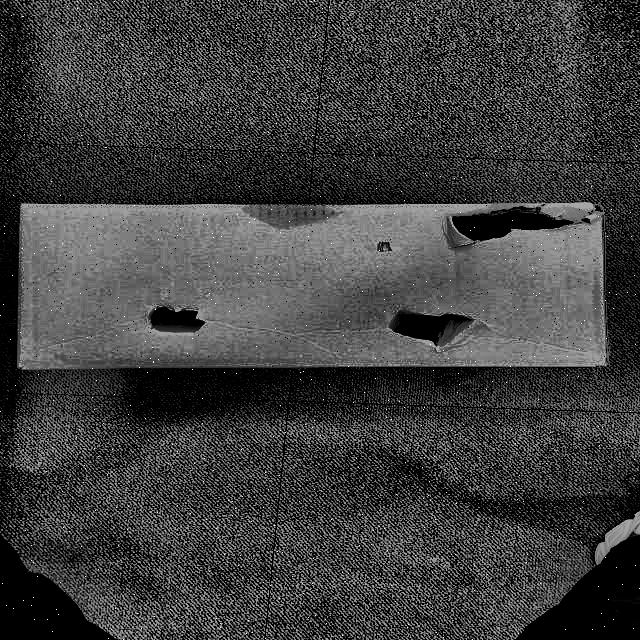box: (9, 193, 614, 377)
hole: (438, 202, 596, 248), (382, 310, 487, 350), (139, 304, 214, 333)
wet: (237, 204, 346, 232)
